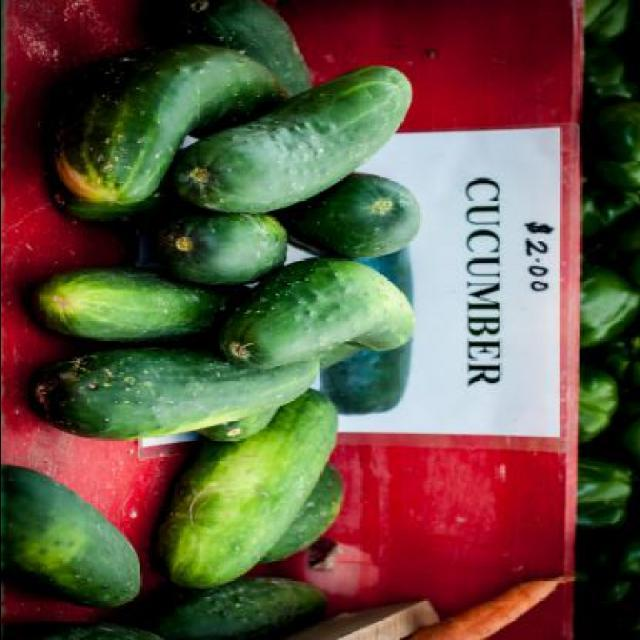Cucumber: (0, 0, 419, 640), (31, 357, 317, 446), (1, 462, 145, 610)
